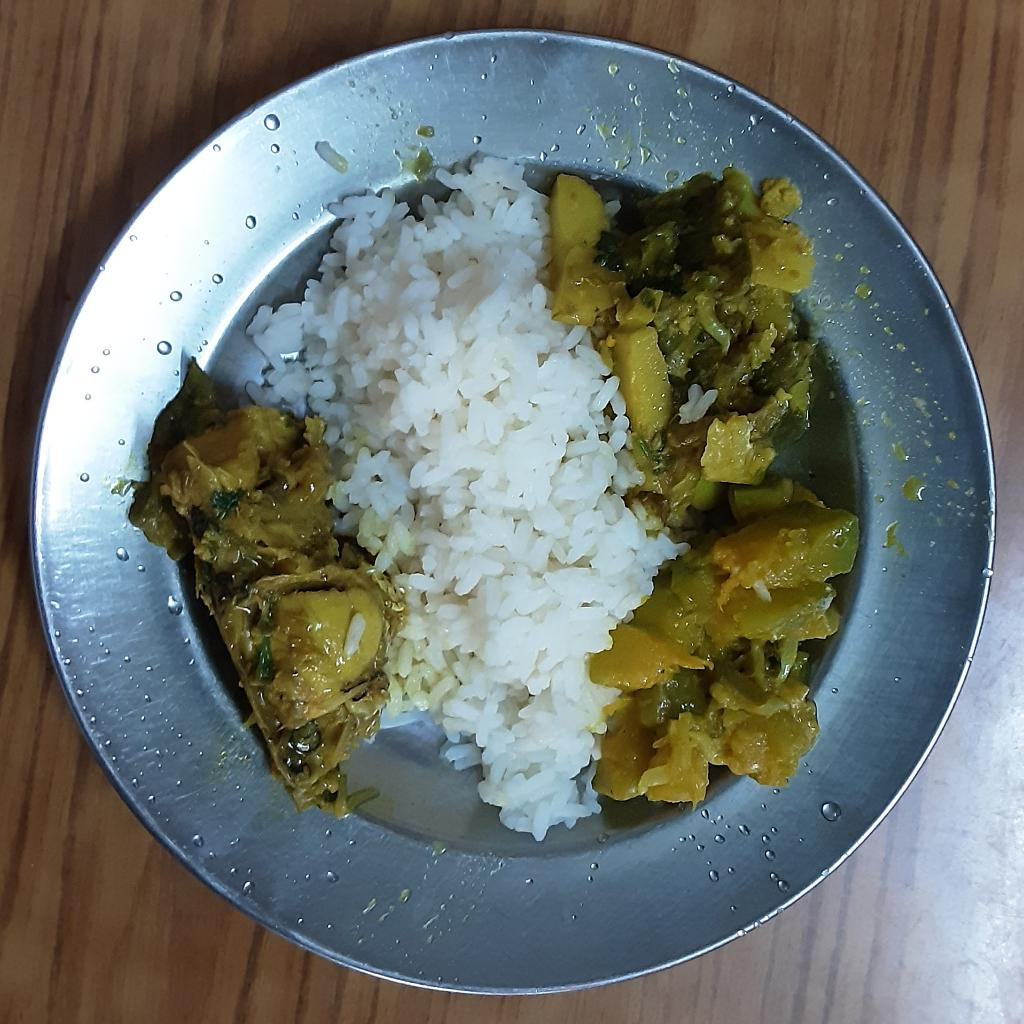begun-vaji: (612, 170, 823, 448)
fish: (124, 351, 392, 810)
kumra-vaji: (585, 472, 868, 806)
potato: (553, 164, 770, 533)
rice: (242, 156, 699, 842)
